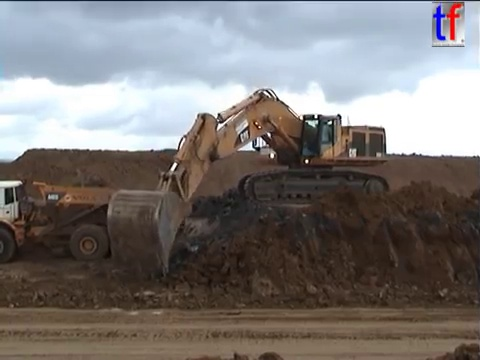excavator: (103, 86, 392, 281)
truck: (1, 177, 174, 265)
